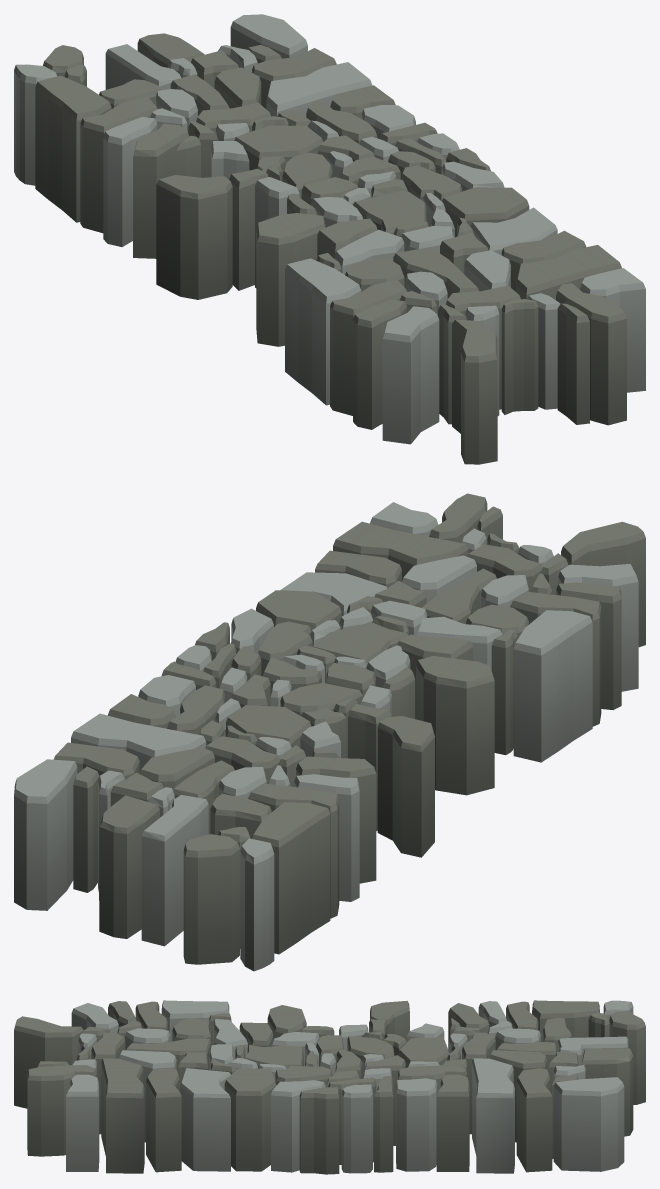
File: ZLP_Road_B_6.FBX
The picture shows the model from 3 angles, top to bottom: view 1: azimuth 30°, elevation 25°; view 2: azimuth 150°, elevation 25°; view 3: azimuth 270°, elevation 25°; orthographic projection. The views are drawn at different scales.
Visible parts, largest first — view 1: ZLP_Road_B_6; view 2: ZLP_Road_B_6; view 3: ZLP_Road_B_6.
Part boxes in pixels (bbox=[...]): ZLP_Road_B_6: bbox=[14, 14, 645, 464]; ZLP_Road_B_6: bbox=[14, 493, 645, 971]; ZLP_Road_B_6: bbox=[14, 1000, 645, 1174].
Bounding box in the file's own units: 372 × 144 × 1034.
